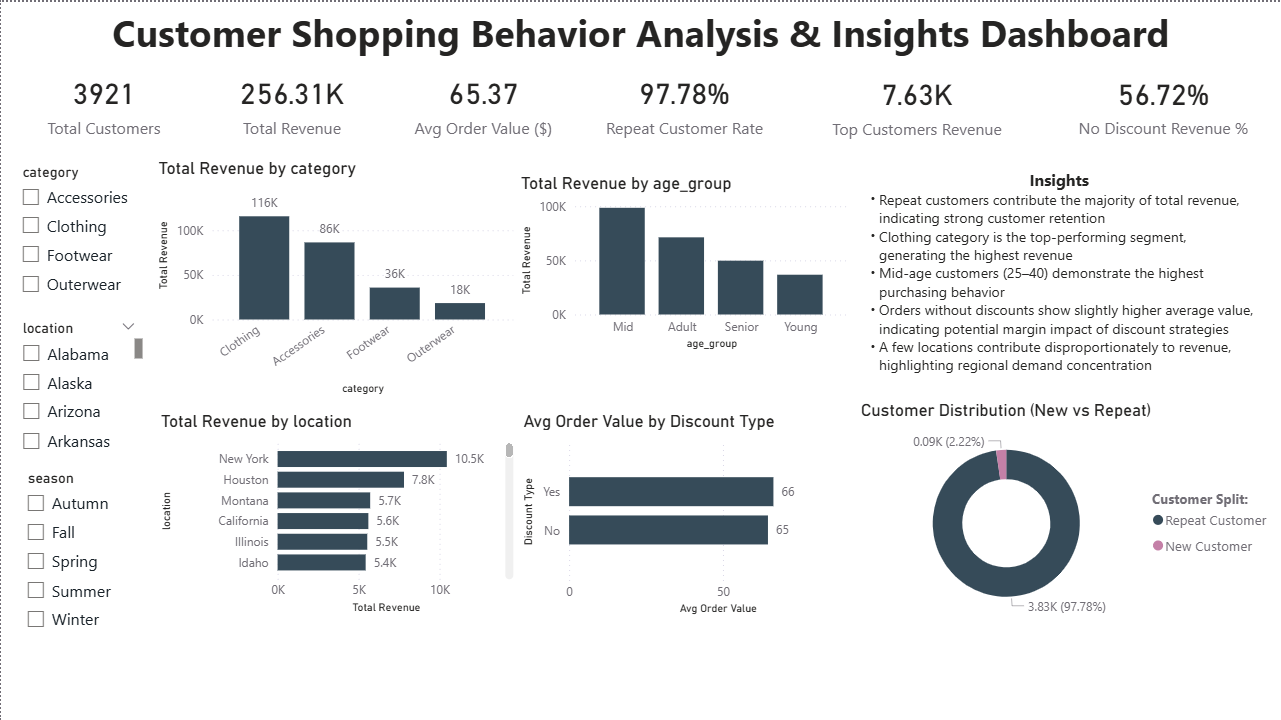

The page's visual inventory and layout, read from the dashboard file:
{"tool":"powerbi","page":{"name":"Page 1","canvas":[1280,720],"ordinal":0},"visuals":[{"type":"card","fields":{"Values":["customer_shopping_behavior_cleaned.Total Customers"]},"box":[0,41.2,206.2,120],"z":0},{"type":"card","fields":{"Values":["customer_shopping_behavior_cleaned.Total Revenue"]},"box":[190,41.2,202.5,120],"z":1000},{"type":"card","fields":{"Values":["customer_shopping_behavior_cleaned.Avg Order Value"]},"box":[392.5,41.2,180,120],"z":2000},{"type":"card","fields":{"Values":["customer_shopping_behavior_cleaned.Repeat Customer Rate"]},"box":[586.2,41.2,195,120],"z":3000},{"type":"card","fields":{"Values":["customer_shopping_behavior_cleaned.Top Customers Revenue"]},"box":[810,42.5,212.5,120],"z":4000},{"type":"clusteredColumnChart","fields":{"Category":["customer_shopping_behavior_cleaned.category"],"Y":["customer_shopping_behavior_cleaned.Total Revenue"]},"box":[152.5,156.2,365,241.2],"z":5000},{"type":"barChart","fields":{"Category":["customer_shopping_behavior_cleaned.location"],"Y":["customer_shopping_behavior_cleaned.Total Revenue"]},"box":[155,408.8,362.5,207.5],"z":6000},{"type":"columnChart","fields":{"Category":["customer_shopping_behavior_cleaned.age_group"],"Y":["customer_shopping_behavior_cleaned.Total Revenue"]},"box":[515,171.2,337.5,181.2],"z":7000},{"type":"barChart","fields":{"Y":["customer_shopping_behavior_cleaned.Avg Order Value"],"Category":["customer_shopping_behavior_cleaned.Discount Type"]},"box":[517.5,408.8,361.2,208.8],"z":8000},{"type":"donutChart","title":"Customer Distribution (New vs Repeat)","fields":{"Category":["customer_shopping_behavior_cleaned.is_repeat"],"Y":["CountNonNull(customer_shopping_behavior_cleaned.customer_id)"]},"box":[855,397.5,425,228.8],"z":9000},{"type":"slicer","fields":{"Values":["customer_shopping_behavior_cleaned.category"]},"box":[8.8,156.2,137.5,148.8],"z":10000},{"type":"slicer","fields":{"Values":["customer_shopping_behavior_cleaned.location"]},"box":[8.8,312.5,137.5,150],"z":11000},{"type":"slicer","fields":{"Values":["customer_shopping_behavior_cleaned.season"]},"box":[13.8,462.5,106.2,178.8],"z":12000},{"type":"textbox","box":[0,0,1280,61.2],"z":13000},{"type":"card","fields":{"Values":["customer_shopping_behavior_cleaned.No Discount Revenue %"]},"box":[1066.2,55,192.5,93.8],"z":14000},{"type":"textbox","box":[855,161.2,406.2,226.2],"z":15000}]}

Visuals, with their boxes in screenshot pixels (x1, y1, x2, y2), scaled from the page's 1280x720 canvas onto the 1281x720 screenshot:
card - customer_shopping_behavior_cleaned.Total Customers: [0, 41, 206, 161]
card - customer_shopping_behavior_cleaned.Total Revenue: [190, 41, 393, 161]
card - customer_shopping_behavior_cleaned.Avg Order Value: [393, 41, 573, 161]
card - customer_shopping_behavior_cleaned.Repeat Customer Rate: [587, 41, 782, 161]
card - customer_shopping_behavior_cleaned.Top Customers Revenue: [811, 42, 1023, 162]
clusteredColumnChart - customer_shopping_behavior_cleaned.category x customer_shopping_behavior_cleaned.Total Revenue: [153, 156, 518, 397]
barChart - customer_shopping_behavior_cleaned.location x customer_shopping_behavior_cleaned.Total Revenue: [155, 409, 518, 616]
columnChart - customer_shopping_behavior_cleaned.age_group x customer_shopping_behavior_cleaned.Total Revenue: [515, 171, 853, 352]
barChart - customer_shopping_behavior_cleaned.Avg Order Value x customer_shopping_behavior_cleaned.Discount Type: [518, 409, 879, 618]
"Customer Distribution (New vs Repeat)" donutChart: [856, 398, 1280, 626]
slicer - customer_shopping_behavior_cleaned.category: [9, 156, 146, 305]
slicer - customer_shopping_behavior_cleaned.location: [9, 312, 146, 462]
slicer - customer_shopping_behavior_cleaned.season: [14, 462, 120, 641]
textbox: [0, 0, 1280, 61]
card - customer_shopping_behavior_cleaned.No Discount Revenue %: [1067, 55, 1260, 149]
textbox: [856, 161, 1262, 387]
